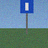sign: (20, 0, 33, 34)
